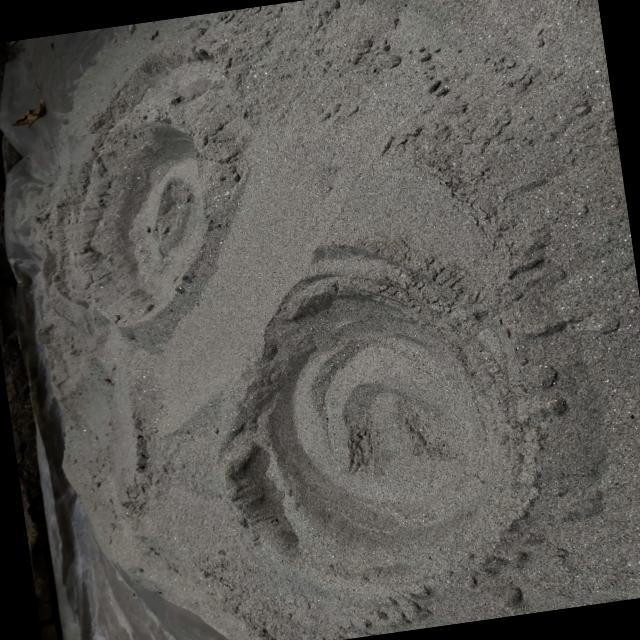C20: (224, 248, 538, 580), (75, 124, 206, 326)
